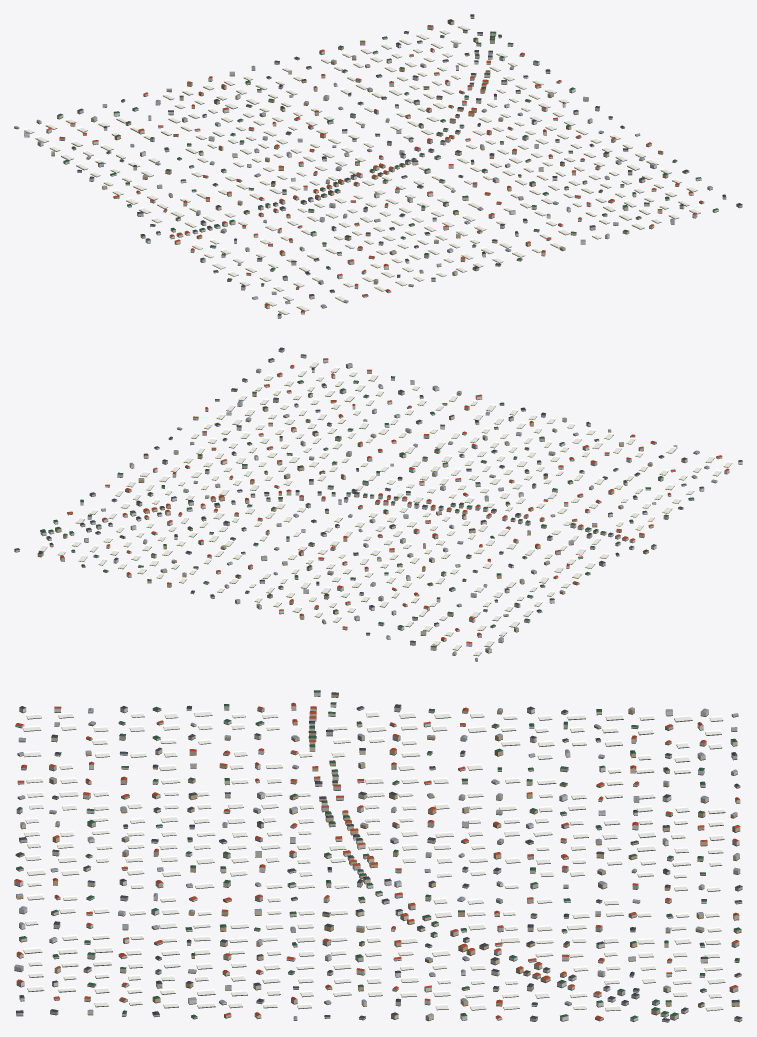
The model's file is buildings_T_E10_S02.glb.
3 views of the same model, one above another, from view 1: azimuth 30°, elevation 25°; view 2: azimuth 150°, elevation 25°; view 3: azimuth 270°, elevation 25° (orthographic). The views are drawn at different scales.
Parts seen in each view (by area): view 1: T_E10_S02_roofs_agri_greenhouse_arch, T_E10_S02_slope_seating_foundations, T_E10_S02_walls_wall_french_ochre_villa, T_E10_S02_walls_wall_dalat_cream_stucco, T_E10_S02_walls_wall_modern_warm_white, T_E10_S02_roofs_roof_terracotta_gable, T_E10_S02_walls_wall_pastel_sand_gray, T_E10_S02_roofs_roof_slate_French_villa_hip, T_E10_S02_roofs_roof_pine_green_hip, T_E10_S02_roofs_roof_zinc_silver_gable; view 2: T_E10_S02_roofs_agri_greenhouse_arch, T_E10_S02_slope_seating_foundations, T_E10_S02_walls_wall_modern_warm_white, T_E10_S02_walls_wall_french_ochre_villa, T_E10_S02_walls_wall_dalat_cream_stucco, T_E10_S02_walls_wall_pastel_sand_gray, T_E10_S02_roofs_roof_terracotta_gable, T_E10_S02_roofs_roof_slate_French_villa_hip, T_E10_S02_roofs_roof_pine_green_hip, T_E10_S02_roofs_roof_zinc_silver_gable; view 3: T_E10_S02_roofs_agri_greenhouse_arch, T_E10_S02_slope_seating_foundations, T_E10_S02_walls_wall_french_ochre_villa, T_E10_S02_walls_wall_modern_warm_white, T_E10_S02_walls_wall_dalat_cream_stucco, T_E10_S02_roofs_roof_terracotta_gable, T_E10_S02_walls_wall_pastel_sand_gray, T_E10_S02_roofs_roof_slate_French_villa_hip, T_E10_S02_roofs_roof_pine_green_hip, T_E10_S02_roofs_roof_zinc_silver_gable.
Part boxes in pixels (<box>): T_E10_S02_roofs_agri_greenhouse_arch: <box>24,24,700,314</box>; T_E10_S02_slope_seating_foundations: <box>14,18,742,318</box>; T_E10_S02_walls_wall_french_ochre_villa: <box>14,20,704,293</box>; T_E10_S02_walls_wall_dalat_cream_stucco: <box>36,16,712,302</box>; T_E10_S02_walls_wall_modern_warm_white: <box>24,37,718,318</box>; T_E10_S02_roofs_roof_terracotta_gable: <box>47,25,703,312</box>; T_E10_S02_walls_wall_pastel_sand_gray: <box>59,25,742,307</box>; T_E10_S02_roofs_roof_slate_French_villa_hip: <box>77,14,742,315</box>; T_E10_S02_roofs_roof_pine_green_hip: <box>57,31,718,285</box>; T_E10_S02_roofs_roof_zinc_silver_gable: <box>14,42,712,306</box>; T_E10_S02_roofs_agri_greenhouse_arch: <box>38,361,732,655</box>; T_E10_S02_slope_seating_foundations: <box>14,350,742,661</box>; T_E10_S02_walls_wall_modern_warm_white: <box>40,355,742,652</box>; T_E10_S02_walls_wall_french_ochre_villa: <box>37,366,697,660</box>; T_E10_S02_walls_wall_dalat_cream_stucco: <box>14,370,687,655</box>; T_E10_S02_walls_wall_pastel_sand_gray: <box>60,349,699,645</box>; T_E10_S02_roofs_roof_terracotta_gable: <box>60,358,729,643</box>; T_E10_S02_roofs_roof_slate_French_villa_hip: <box>14,347,742,642</box>; T_E10_S02_roofs_roof_pine_green_hip: <box>41,354,693,647</box>; T_E10_S02_roofs_roof_zinc_silver_gable: <box>84,363,716,659</box>; T_E10_S02_roofs_agri_greenhouse_arch: <box>22,710,725,1010</box>; T_E10_S02_slope_seating_foundations: <box>14,696,742,1022</box>; T_E10_S02_walls_wall_french_ochre_villa: <box>15,694,741,1020</box>; T_E10_S02_walls_wall_modern_warm_white: <box>14,692,739,1021</box>; T_E10_S02_walls_wall_dalat_cream_stucco: <box>16,705,742,1021</box>; T_E10_S02_roofs_roof_terracotta_gable: <box>14,702,740,1019</box>; T_E10_S02_walls_wall_pastel_sand_gray: <box>14,705,742,1021</box>; T_E10_S02_roofs_roof_slate_French_villa_hip: <box>16,692,742,1020</box>; T_E10_S02_roofs_roof_pine_green_hip: <box>16,690,741,1018</box>; T_E10_S02_roofs_roof_zinc_silver_gable: <box>14,707,739,1018</box>.
Bounding box in the file's own units: 1826 × 36.49 × 1756.
